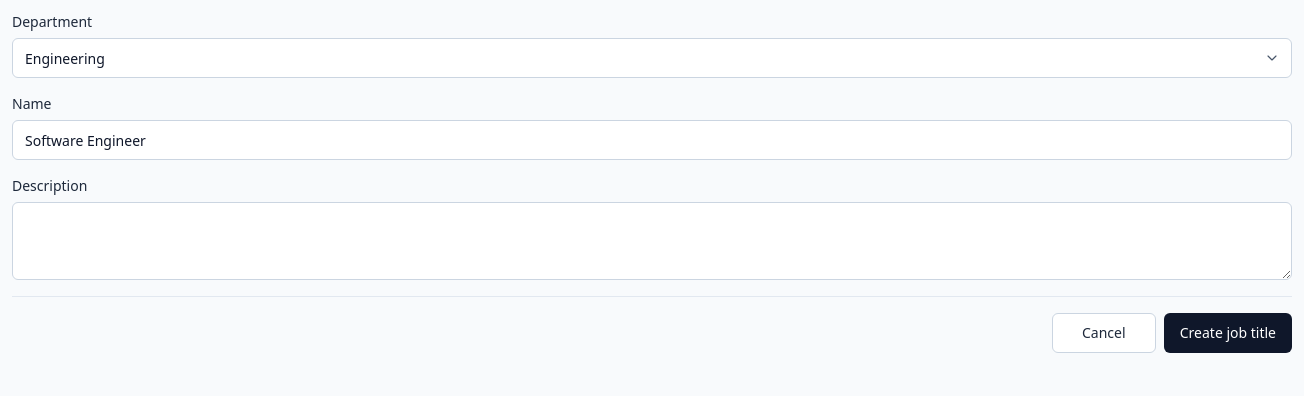
Administration module pages › requires a department when creating a job title
Replace the text in the field with id "job_title_name" with "Staff Engineer": (652, 140) [12,120,1292,160]
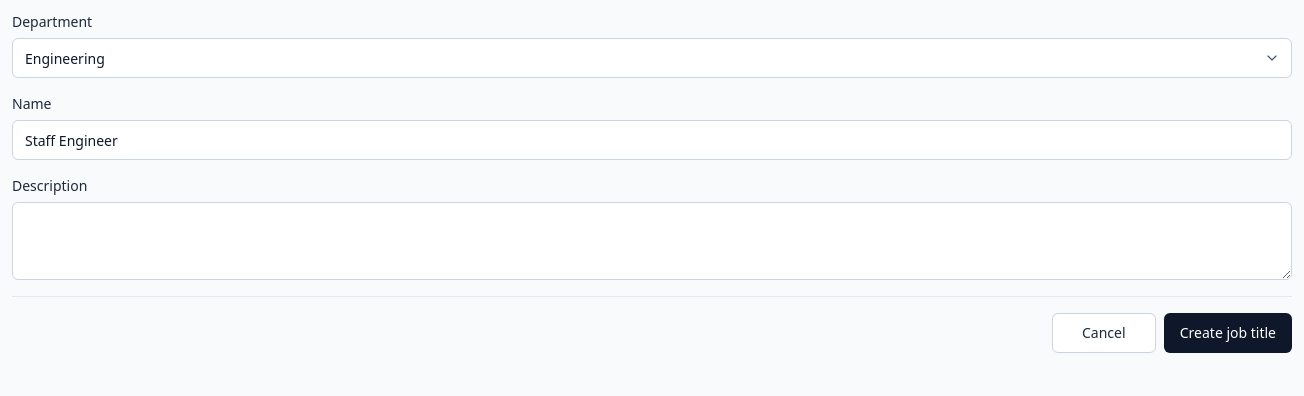
Select "Select a department" in the dropdown with id "job_title_department_id": (652, 58) [12,38,1292,78]
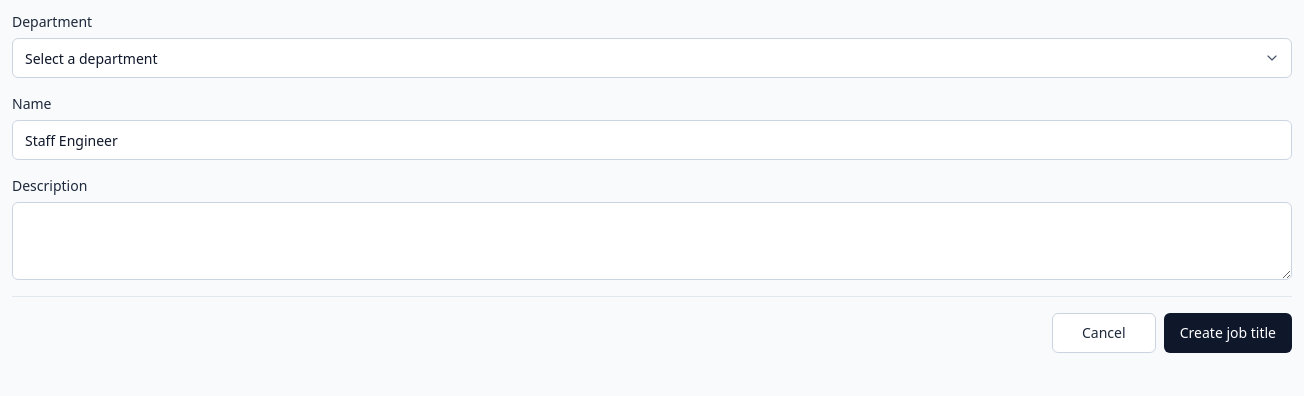
Submit the form
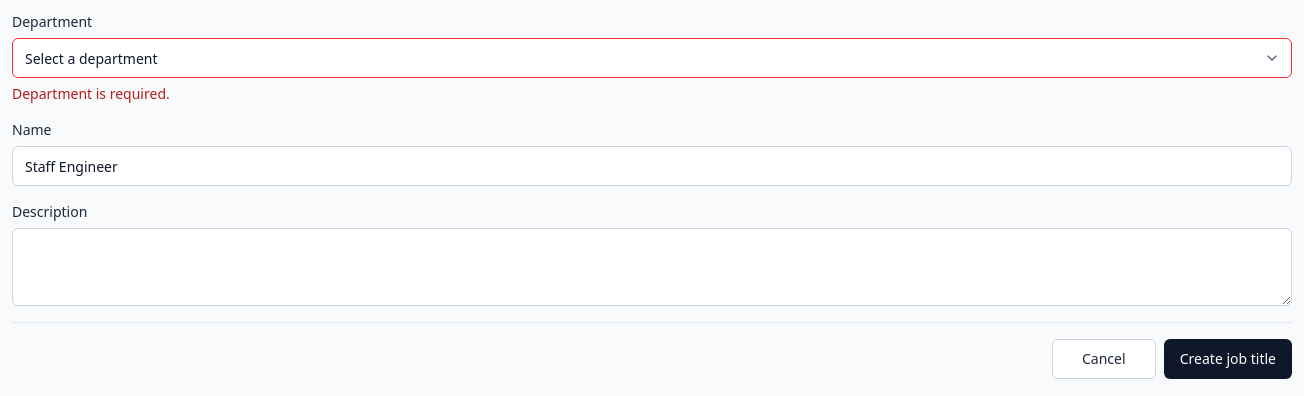
Expected: the form shows "Department is required.", [12,84,170,103]
